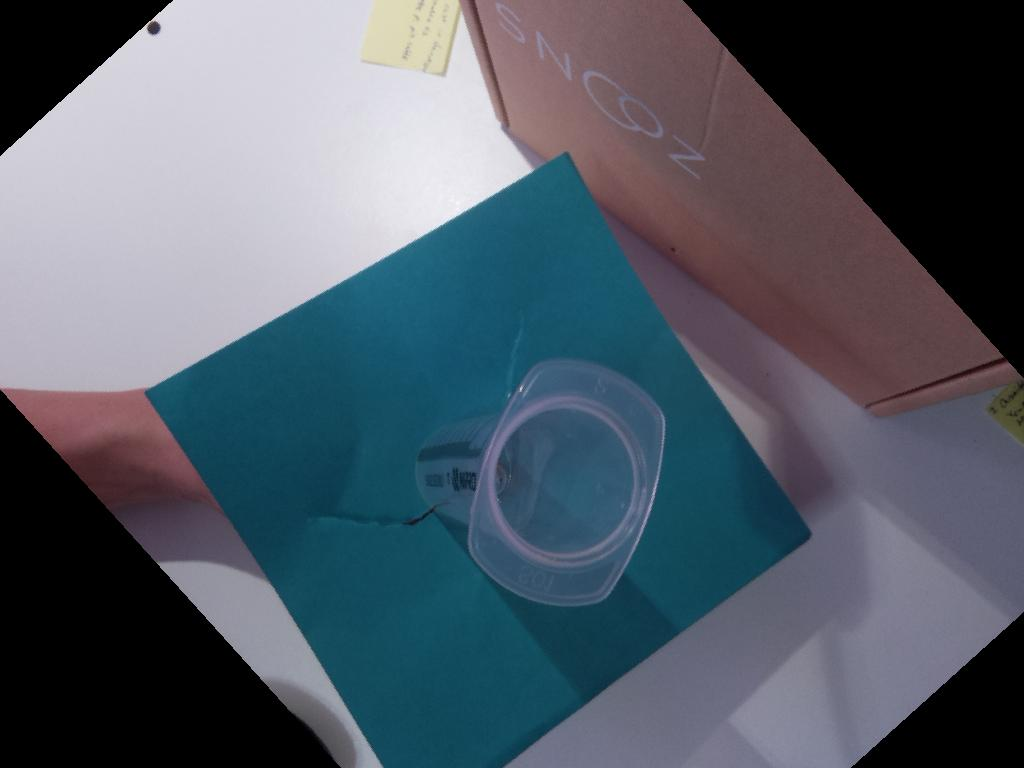clean: (467, 359, 666, 608)
